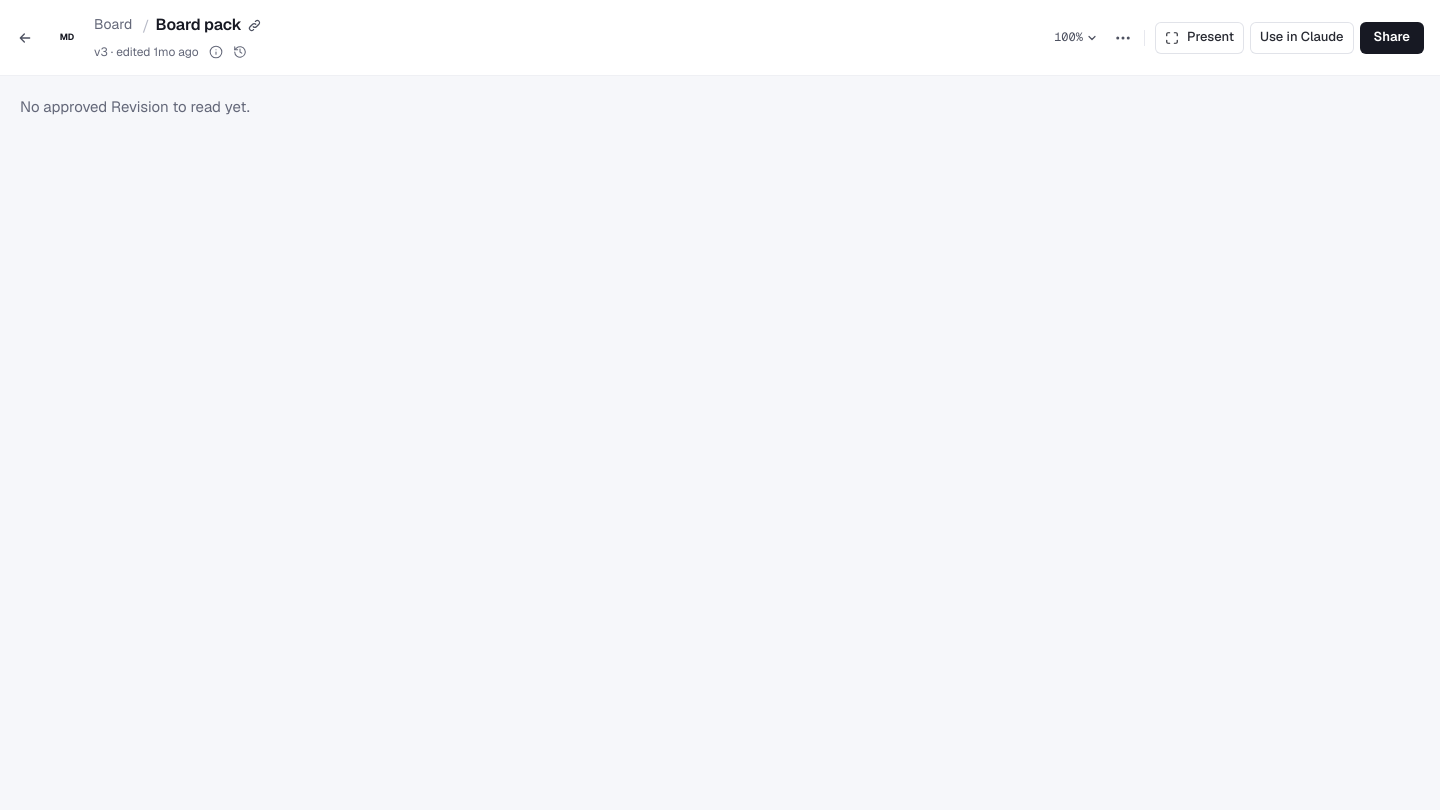
Test: PreviewPane header › opens Revision history as a modal from the meta line's History icon
Click the button named "History". click: (240, 52)
box: [229,41,251,63]
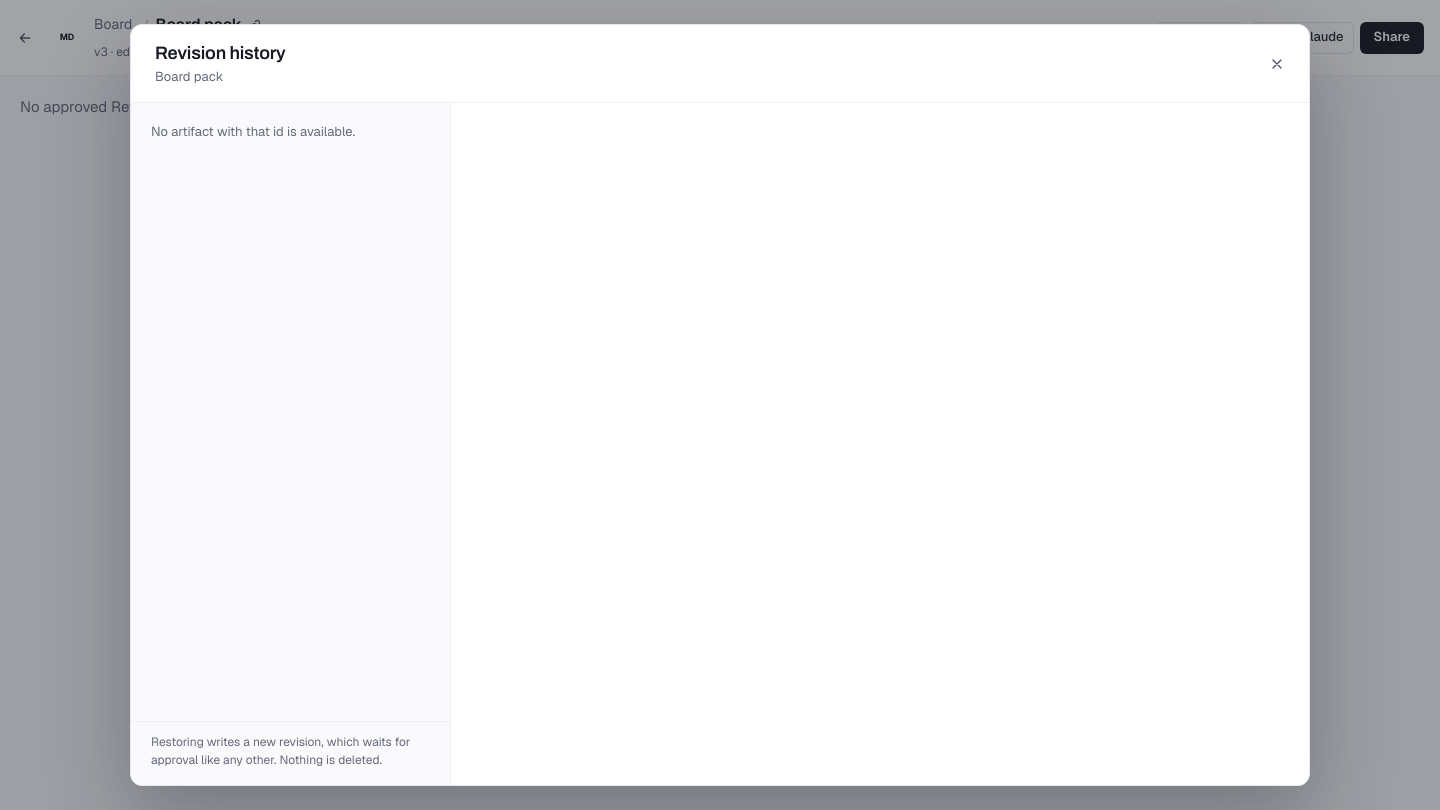
Check: the text with test id "page" reads "/artifacts/a1?panel=history", box [0,1,185,20]
Check: the dialog "Revision history" is shown
Click the button named "Close". click: (1277, 64)
box: [1261,48,1293,80]
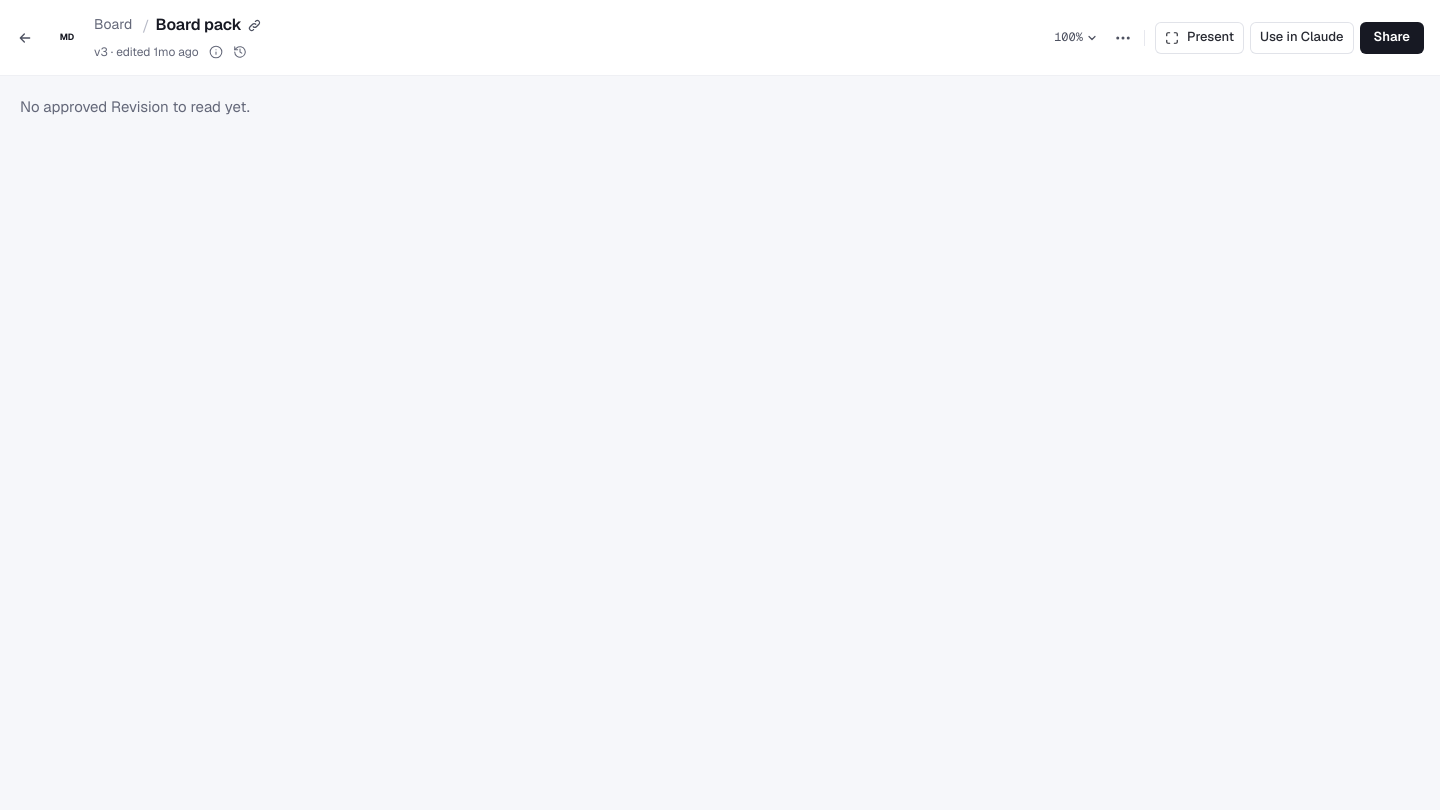
Check: the heading "Revision history" is gone
